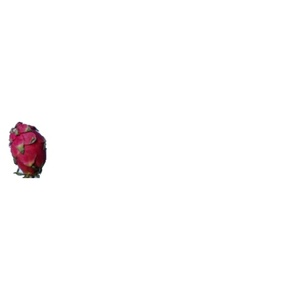pitaia: (9, 122, 47, 180)
